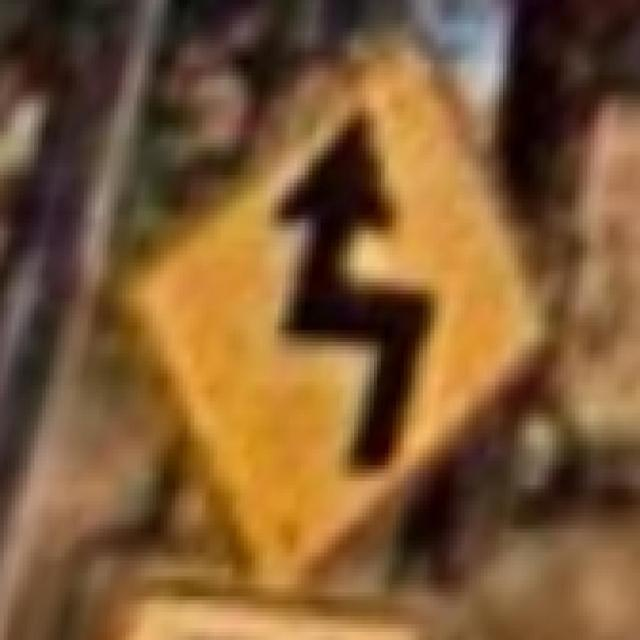Tikungan Ganda Pertama Ke Kiri: (102, 35, 548, 592)
